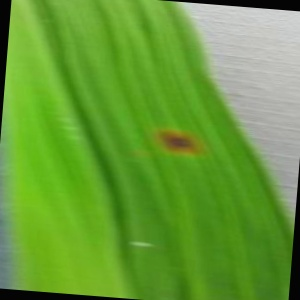Bacterial_Leaf_Blight: (150, 114, 211, 168), (124, 231, 162, 256)
